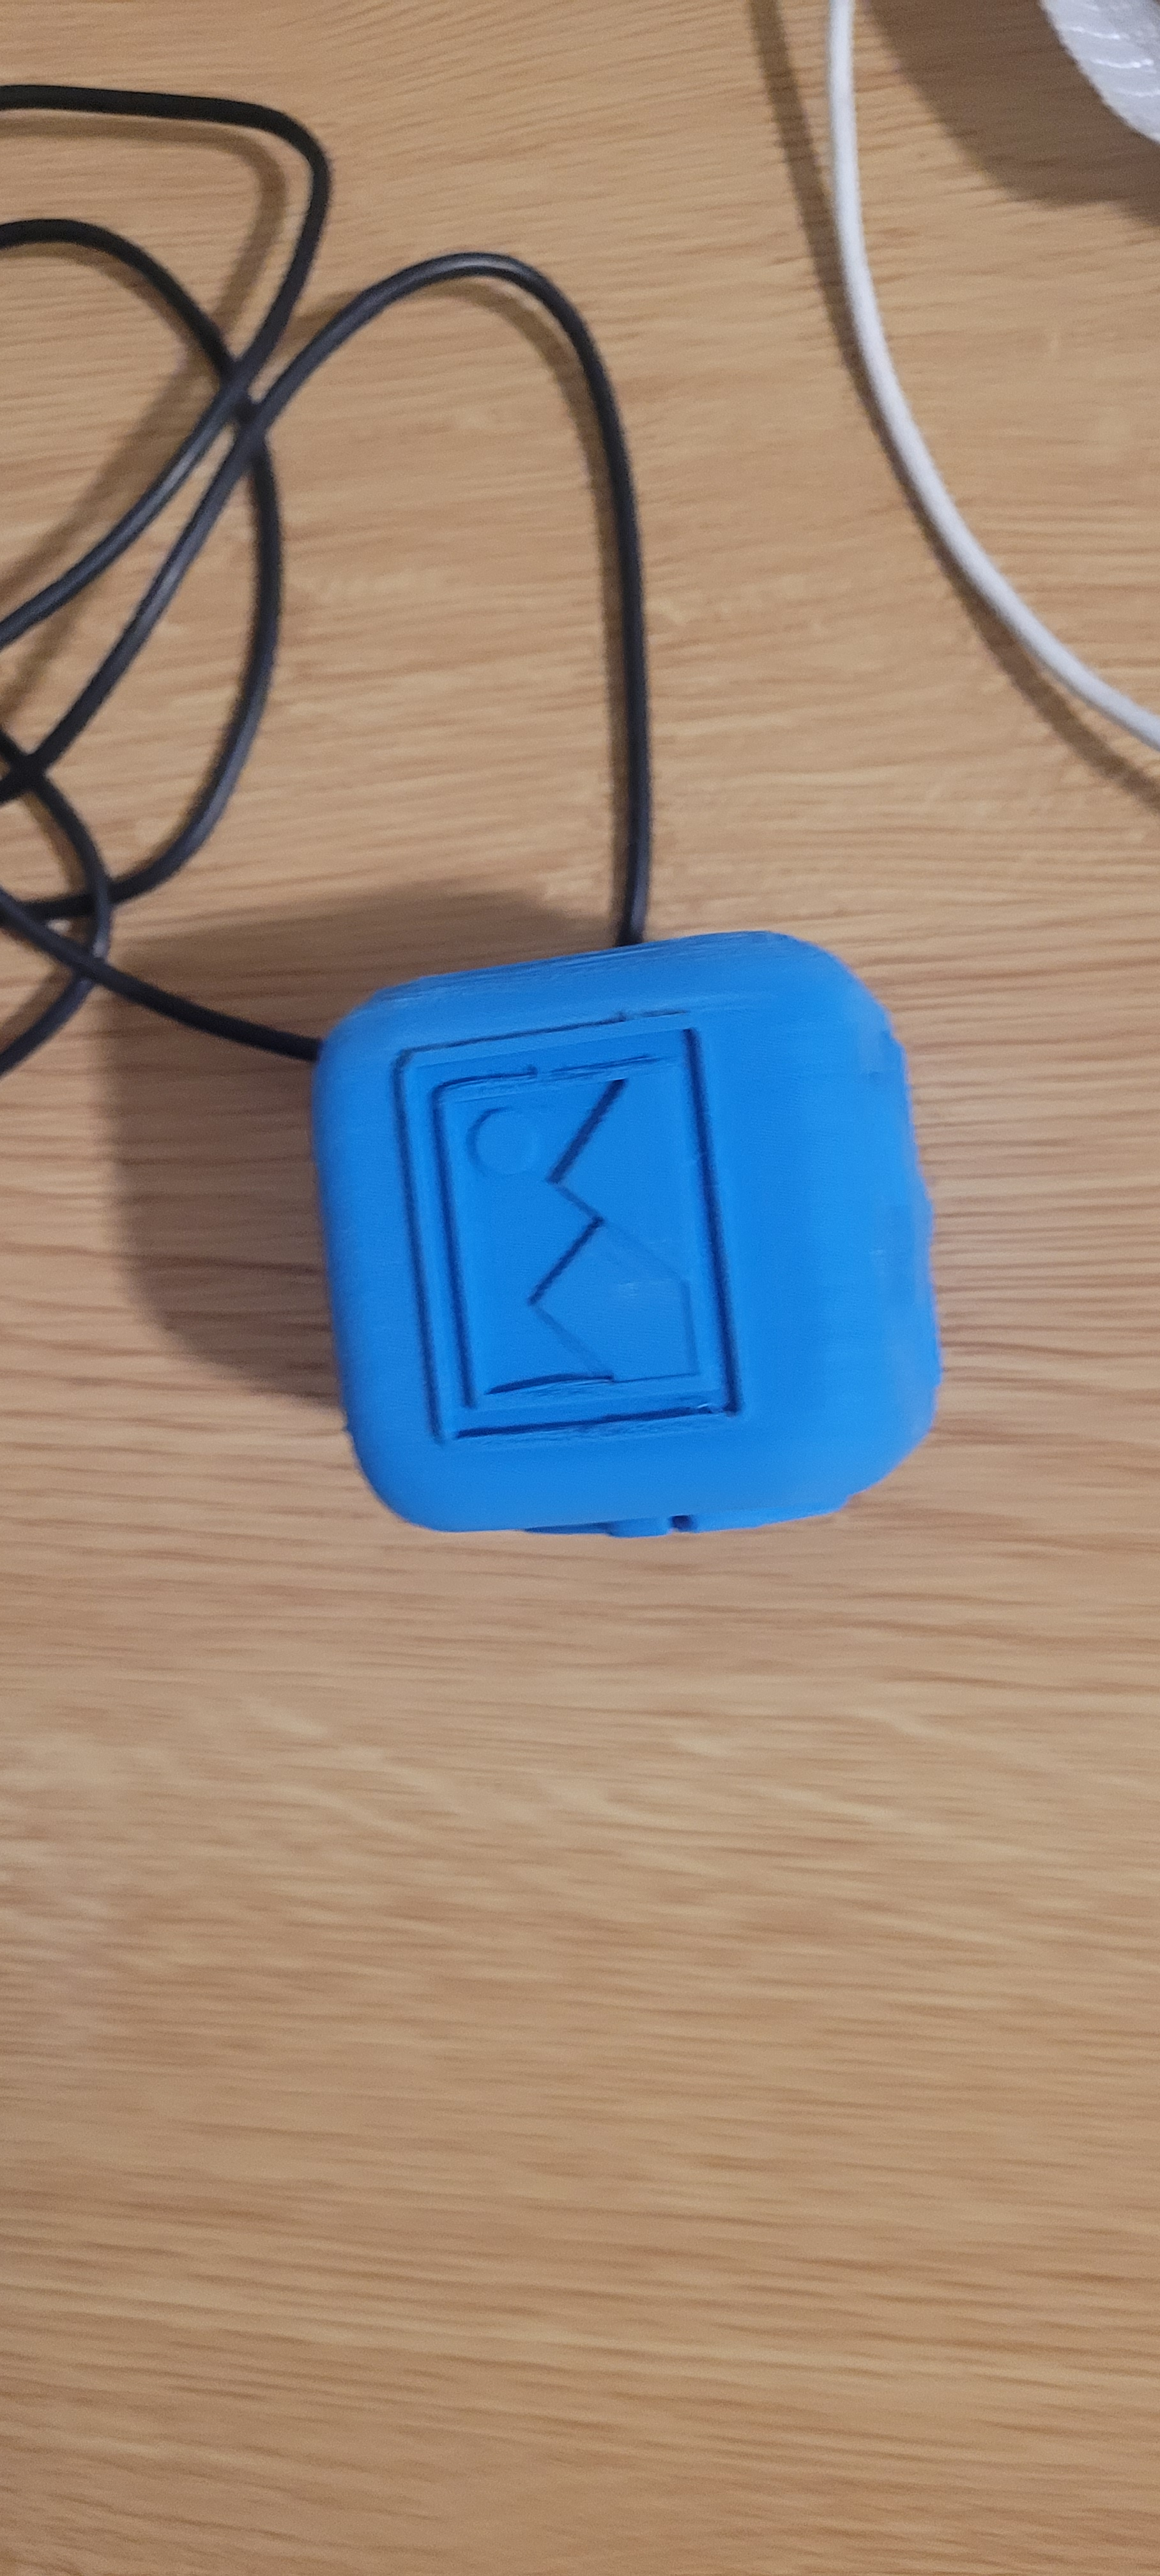Story: (384, 1040, 754, 1457)
